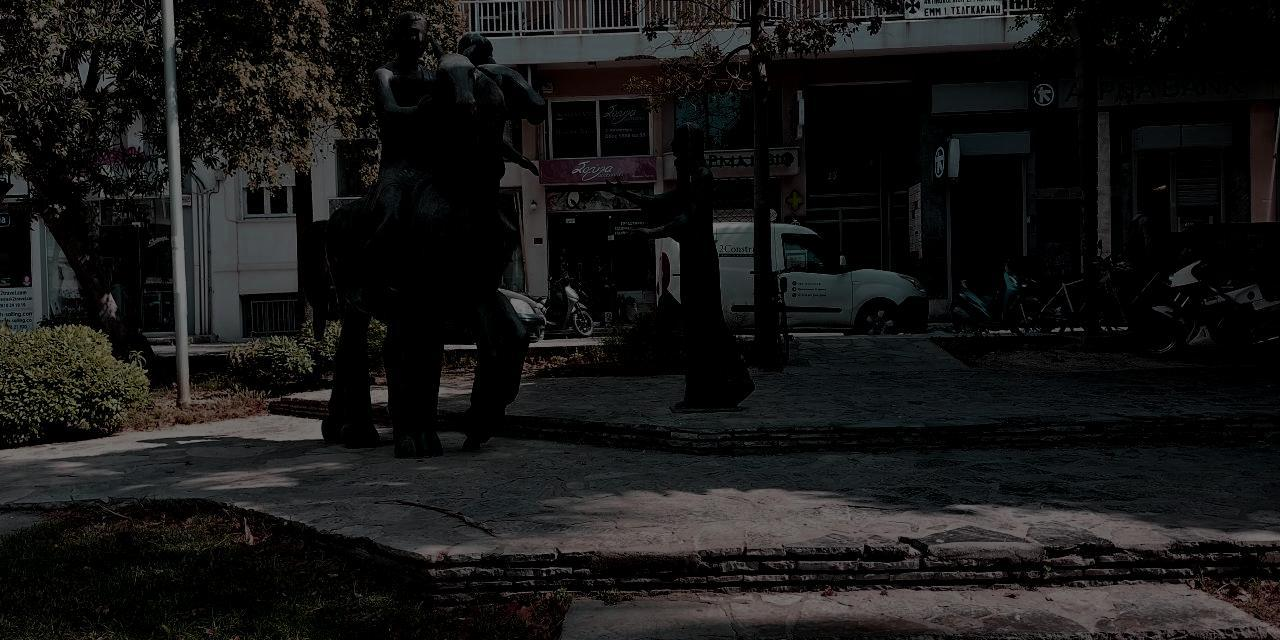Aretousa: (299, 12, 757, 459)
